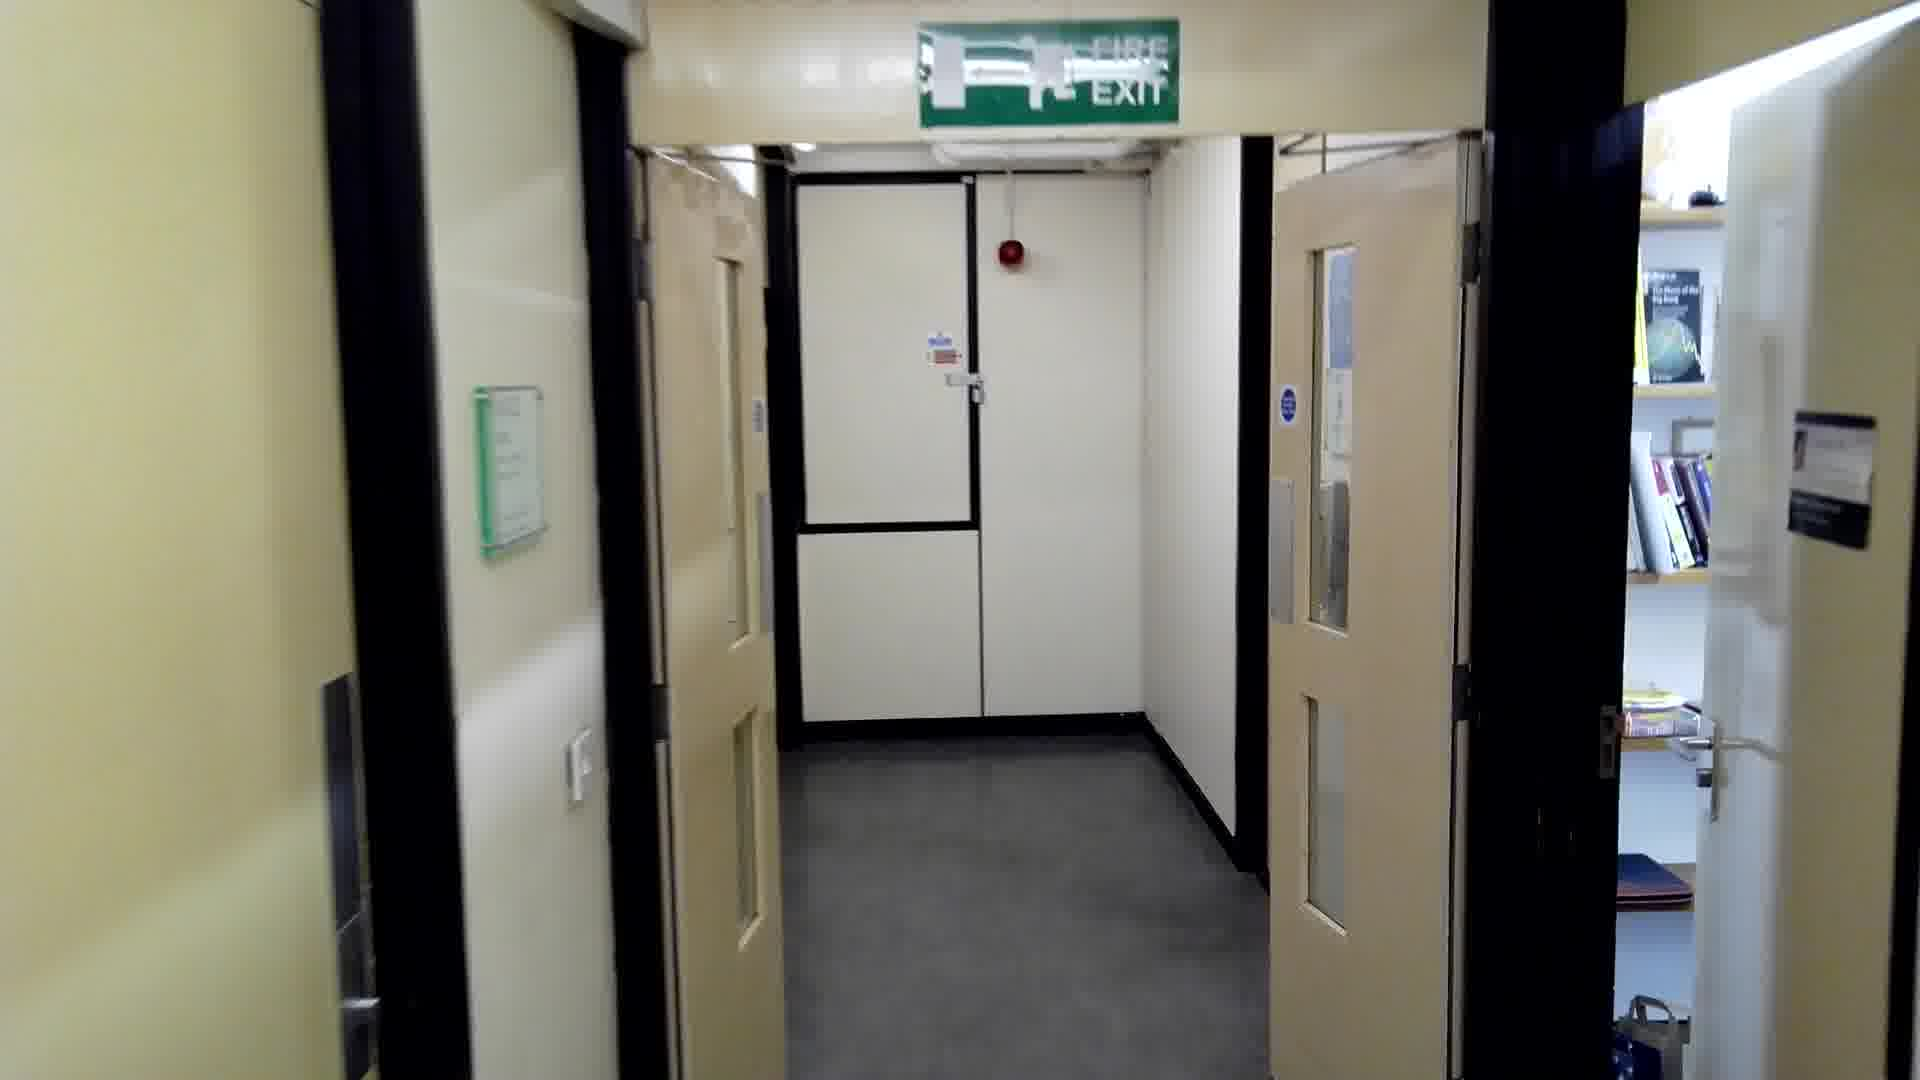Door: (1258, 137, 1491, 1080), (607, 131, 800, 1080)
